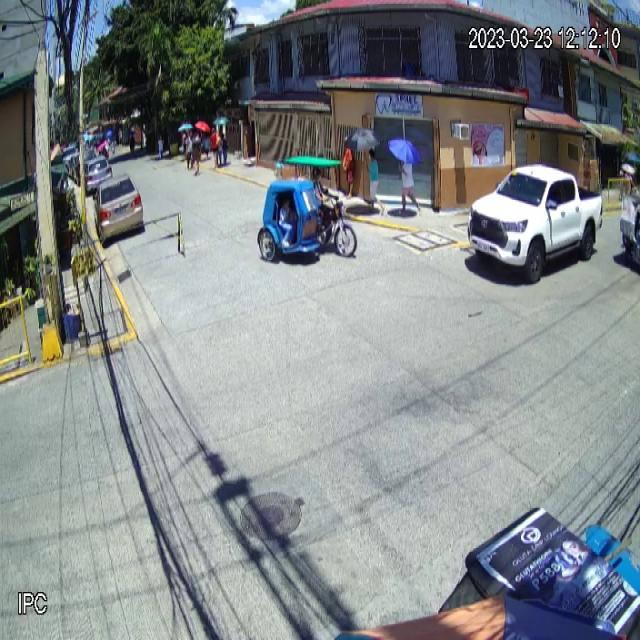Car: (468, 162, 603, 282), (93, 173, 144, 244)
Tricycle: (257, 155, 357, 263)
